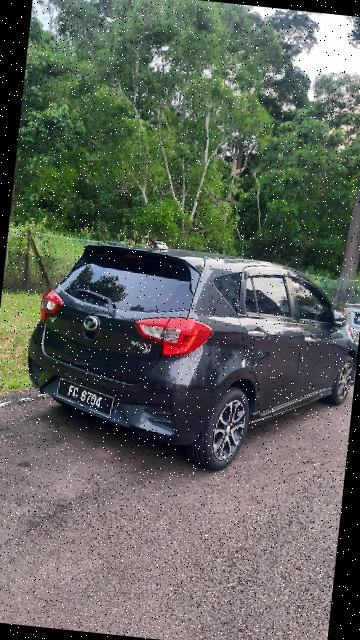License_Plate: (52, 374, 120, 421)
car: (14, 233, 360, 486)
